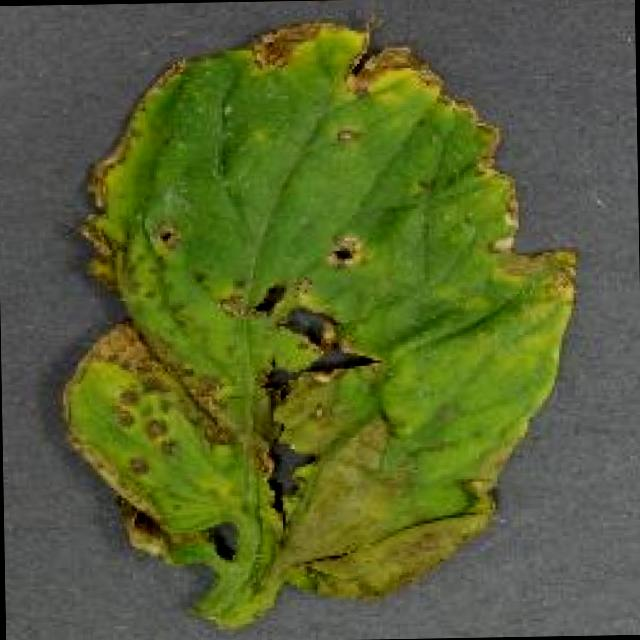bacterial spot: (56, 19, 581, 632)
